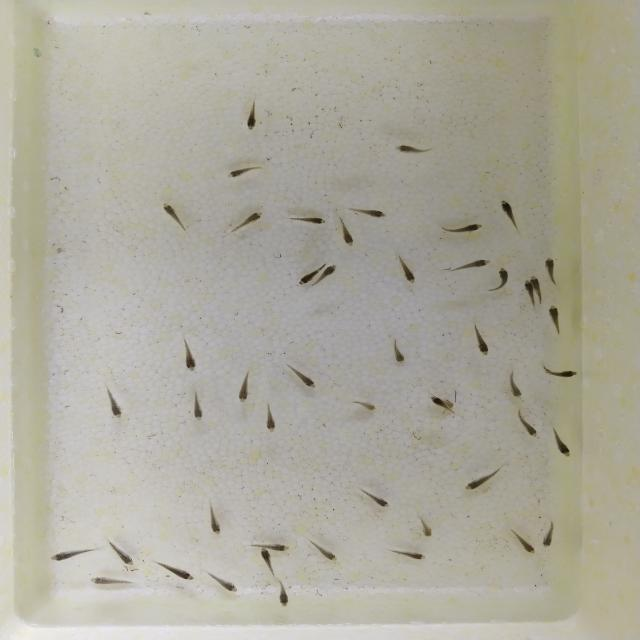fingerling: (222, 206, 269, 238), (155, 198, 194, 233), (461, 465, 502, 493), (284, 362, 321, 391), (352, 485, 393, 511), (304, 536, 342, 564), (392, 253, 422, 288), (238, 96, 264, 136), (47, 543, 94, 565), (155, 561, 198, 585), (548, 425, 577, 459), (507, 528, 539, 558), (388, 139, 441, 157), (178, 336, 203, 374), (220, 162, 269, 181), (434, 220, 488, 237), (497, 196, 522, 232), (447, 255, 492, 275), (470, 319, 493, 358), (102, 386, 126, 423), (107, 541, 138, 569), (410, 510, 438, 540), (206, 571, 240, 595), (204, 501, 226, 538), (343, 204, 395, 219), (388, 546, 431, 564), (335, 221, 362, 249), (188, 388, 209, 424), (503, 370, 527, 401), (536, 364, 582, 380), (234, 371, 255, 405), (386, 335, 409, 366), (514, 411, 540, 438), (426, 390, 454, 415), (86, 573, 132, 588), (272, 580, 294, 610), (540, 519, 561, 550), (346, 396, 383, 413), (545, 301, 564, 334), (261, 403, 280, 436), (284, 215, 330, 227), (251, 547, 273, 572), (541, 252, 559, 282), (494, 264, 512, 291), (522, 278, 537, 310), (294, 272, 316, 288), (319, 263, 339, 279), (271, 541, 293, 553)
